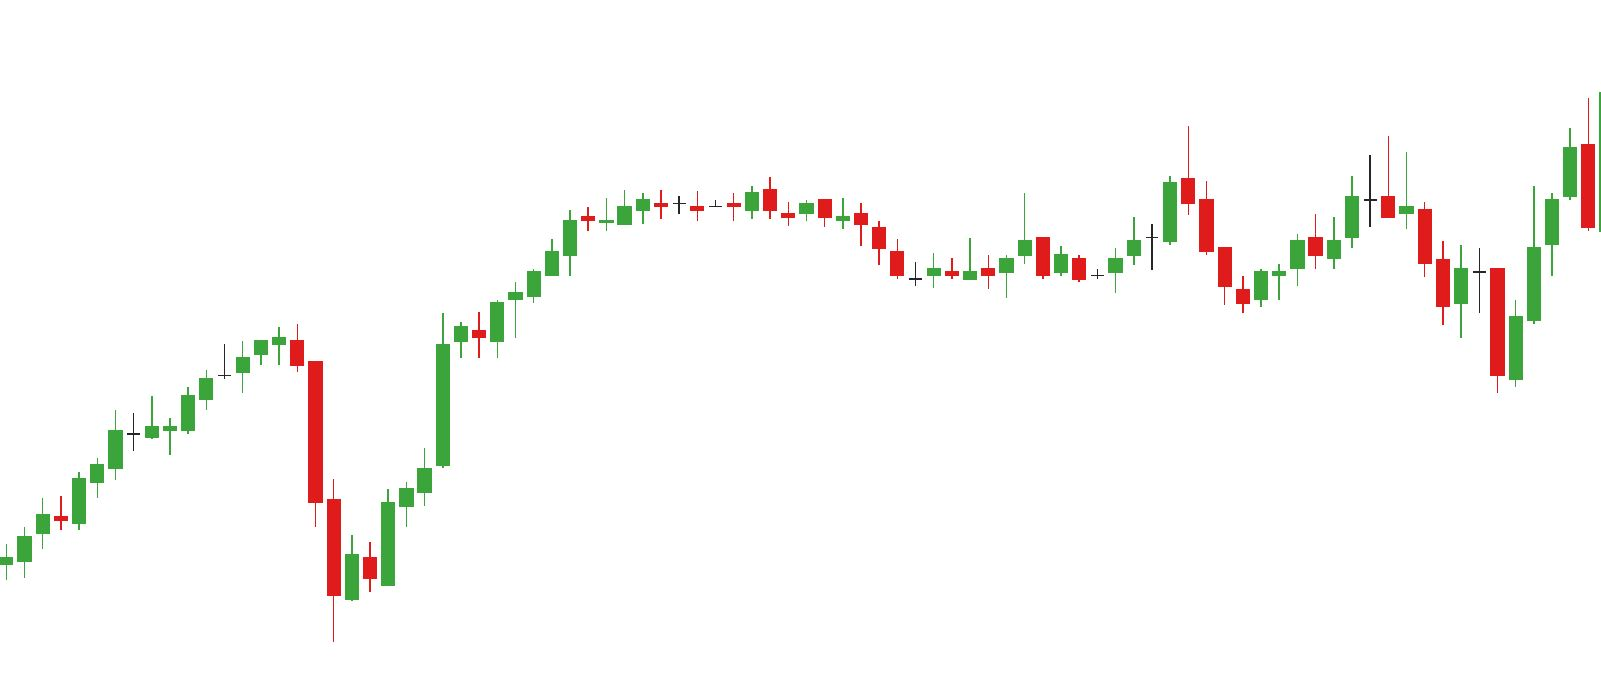buy: (1235, 220, 1470, 344)
sell: (1014, 127, 1197, 250)
